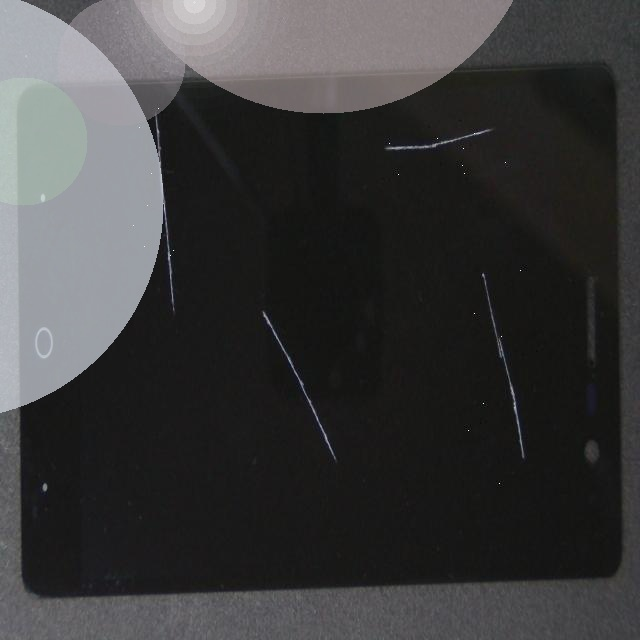scratch: (213, 15, 640, 502), (83, 80, 420, 564), (194, 41, 573, 226), (91, 32, 223, 168)
